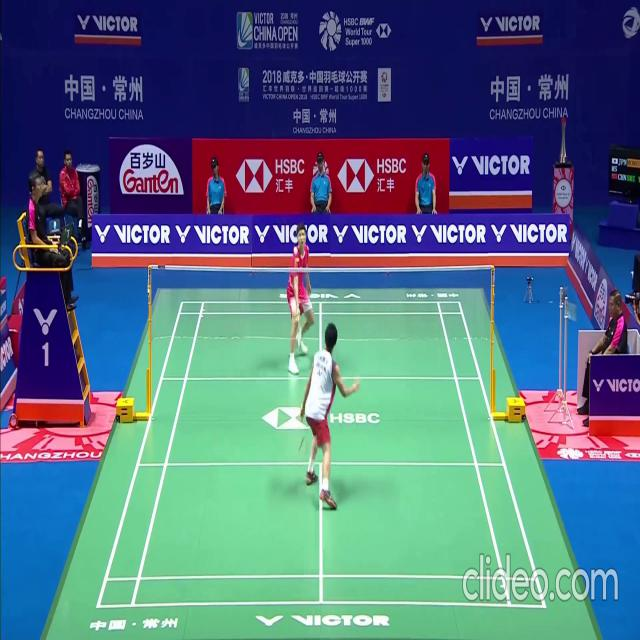Shuttlecock: (294, 248, 298, 256)
